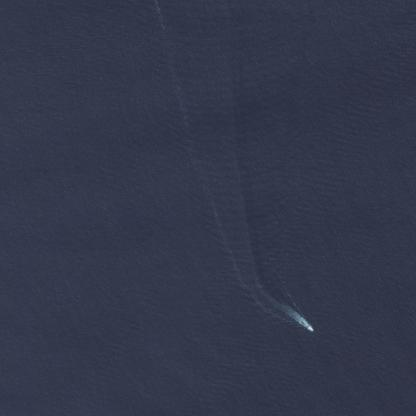ship: (299, 320, 319, 336)
